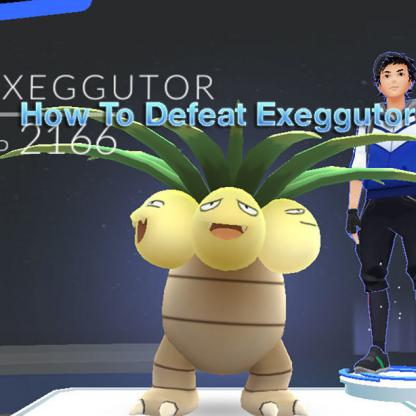Exeggutor: (14, 109, 396, 416)
